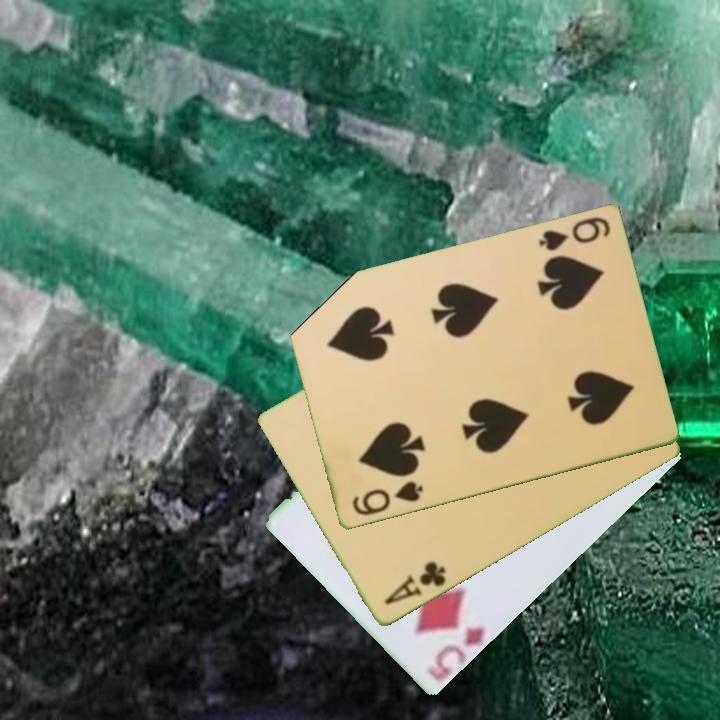5d: (427, 623, 489, 680)
6s: (348, 478, 426, 519), (535, 214, 613, 255)
Ac: (380, 558, 449, 609)
